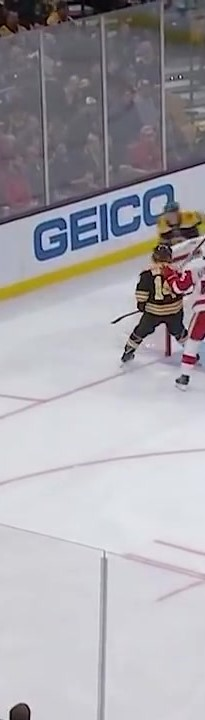Geico: (26, 181, 177, 270)
